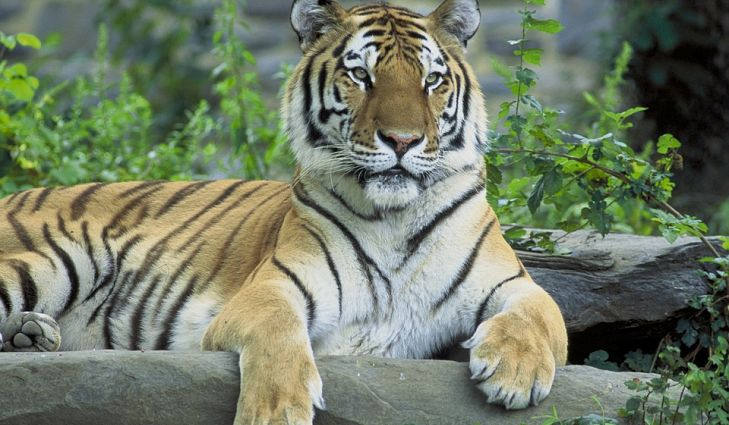Tiger: (8, 8, 580, 425)
